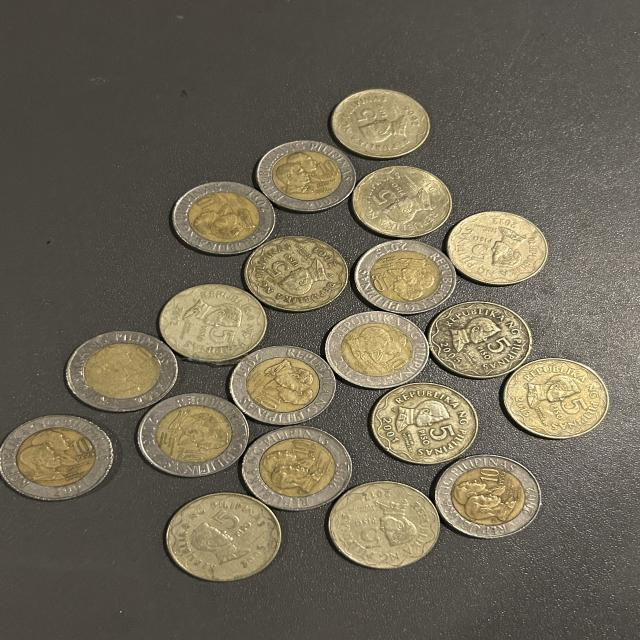10_Old_Front: (161, 409, 247, 462), (81, 344, 165, 396), (12, 436, 104, 483), (248, 359, 328, 413), (343, 324, 418, 377), (260, 435, 326, 495), (456, 471, 529, 525), (189, 196, 255, 251), (368, 250, 442, 299), (276, 155, 348, 199)
5_Old_Front: (336, 487, 432, 554), (383, 385, 476, 452), (514, 368, 600, 432), (173, 293, 258, 352), (184, 506, 267, 559), (334, 100, 419, 150), (449, 310, 524, 366), (262, 248, 349, 295), (362, 177, 442, 228), (458, 225, 528, 272)
